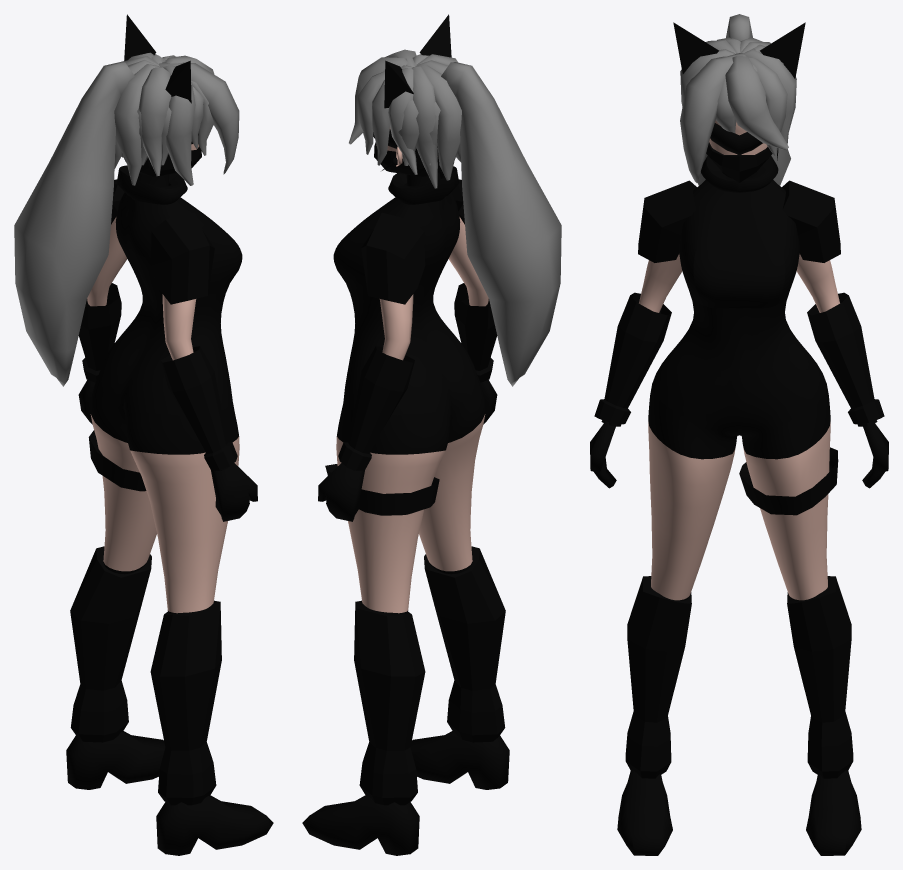
File: mixamo.fbx
3 renders of one model, left to right at view 1: azimuth 30°, elevation 25°; view 2: azimuth 150°, elevation 25°; view 3: azimuth 270°, elevation 25°, orthographic. The views are drawn at different scales.
Visible parts, largest first — view 1: Arm; view 2: Arm; view 3: Arm.
Part boxes in pixels (<box>): Arm: <box>14,14,273,855</box>; Arm: <box>302,14,561,855</box>; Arm: <box>590,14,888,855</box>.
Size of the model in its own units: 33.05 by 119 by 40.08.
